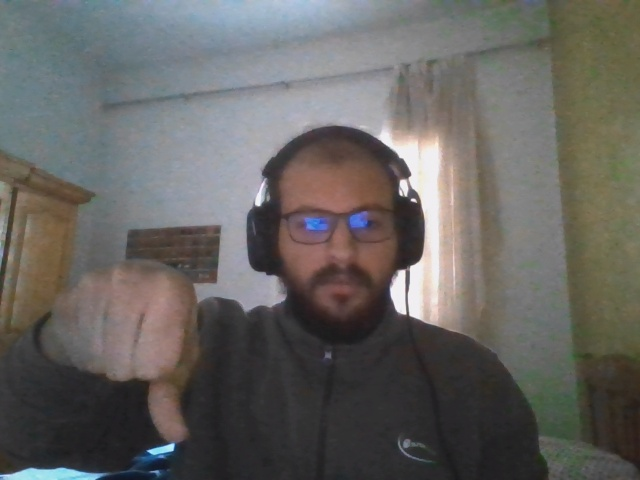Yes: (53, 261, 192, 443)
